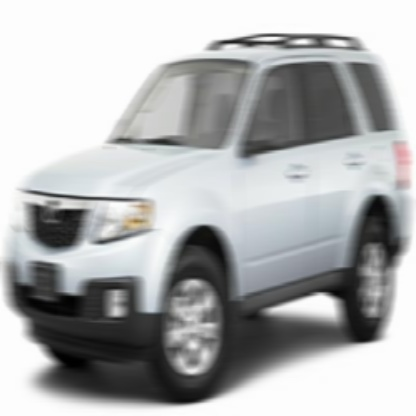Vehicle: (7, 31, 409, 400)
